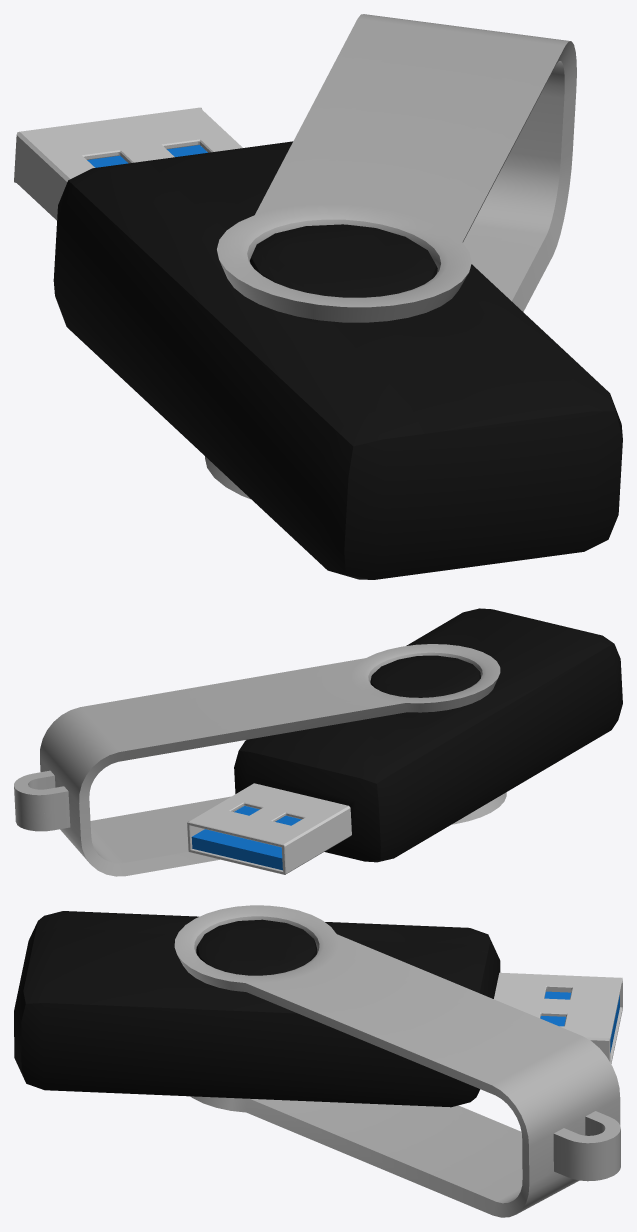
The model's file is usb-flash-drive-swivel.glb.
3 renders of one model, top to bottom at view 1: azimuth 30°, elevation 25°; view 2: azimuth 150°, elevation 25°; view 3: azimuth 270°, elevation 25°, orthographic. The views are drawn at different scales.
Parts seen in each view (by area): view 1: Object_93, Object_94; view 2: Object_93, Object_94; view 3: Object_94, Object_93.
Part boxes in pixels (left/top/right/bottom): Object_93: left=53, top=141, right=622, bottom=579; Object_94: left=14, top=14, right=576, bottom=499; Object_93: left=191, top=608, right=622, bottom=870; Object_94: left=14, top=644, right=506, bottom=876; Object_94: left=174, top=905, right=622, bottom=1217; Object_93: left=14, top=911, right=619, bottom=1107.
Size of the model in its own units: 0.0901 by 0.0327 by 0.1187.
2 materials, 2 textured.
